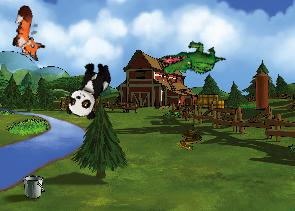crocodile: (157, 30, 226, 90)
fox: (7, 4, 52, 62)
panda: (63, 56, 115, 123)
